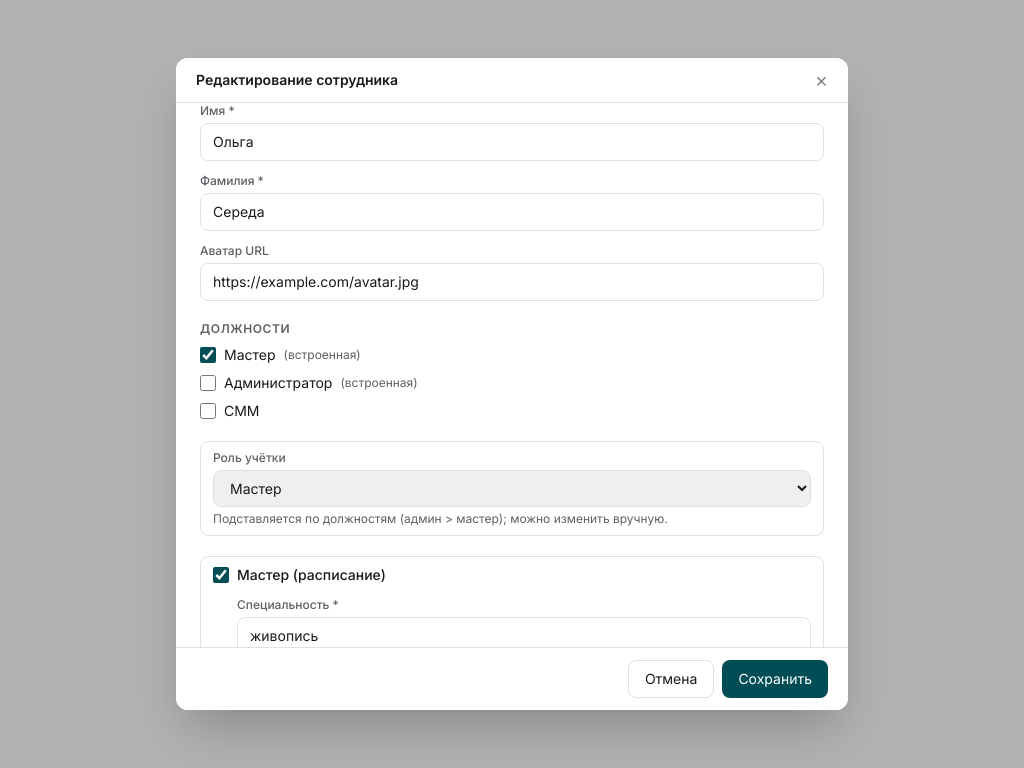
Test: StaffModal phone fields (GH #414) › edit: a CHANGED out-of-list account phone blocks with «Выберите страну из списка»
Click the button with test id "staff-modal-save-btn" at (775, 679), box [722,660,828,698]
(page scrolled)
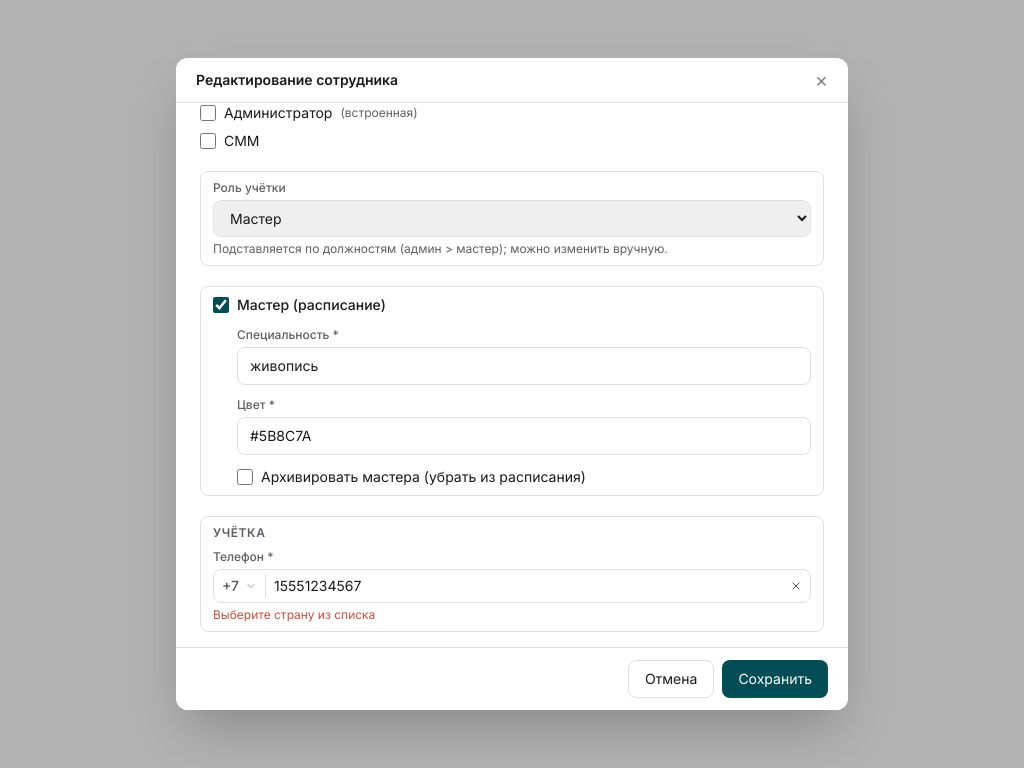
Expected: the text "Выберите страну из списка" is shown, [213,607,375,622]
